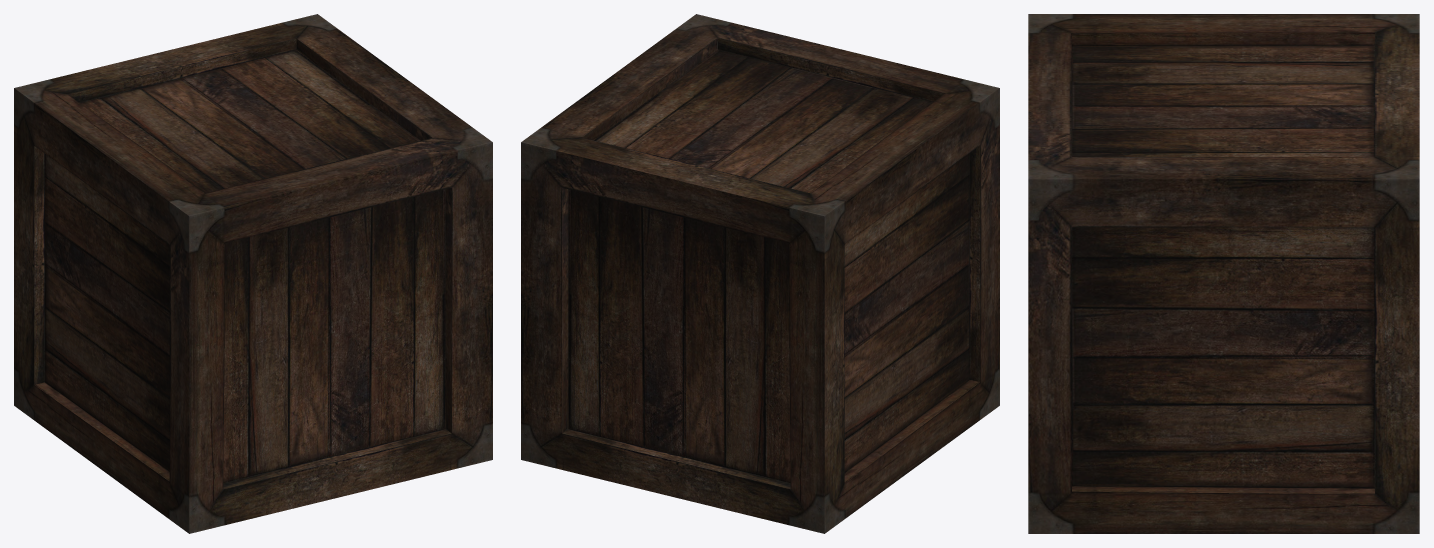
3 views of the same model, side by side, from view 1: azimuth 30°, elevation 25°; view 2: azimuth 150°, elevation 25°; view 3: azimuth 270°, elevation 25° (orthographic). The views are drawn at different scales.
Visible parts, largest first — view 1: Mesh8; view 2: Mesh8; view 3: Mesh8.
Part boxes in pixels (x1,y1,x2,y2): Mesh8: [14, 14, 492, 533]; Mesh8: [521, 14, 999, 533]; Mesh8: [1028, 14, 1419, 533].
Size of the model in its own units: 2 by 2 by 2.
1 material, 1 textured.
